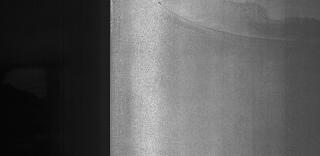scratches: (154, 2, 302, 48)
